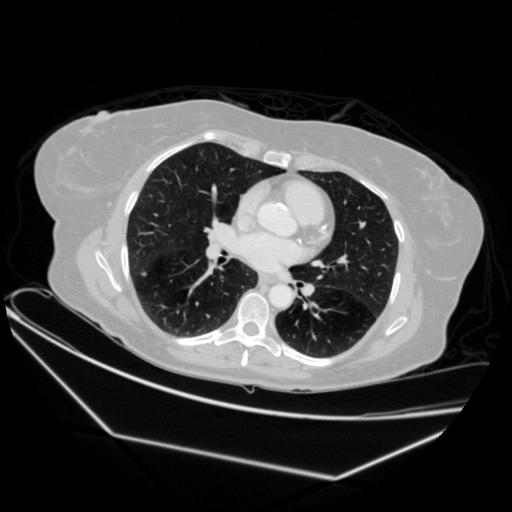nodule: (138, 267, 150, 279)
